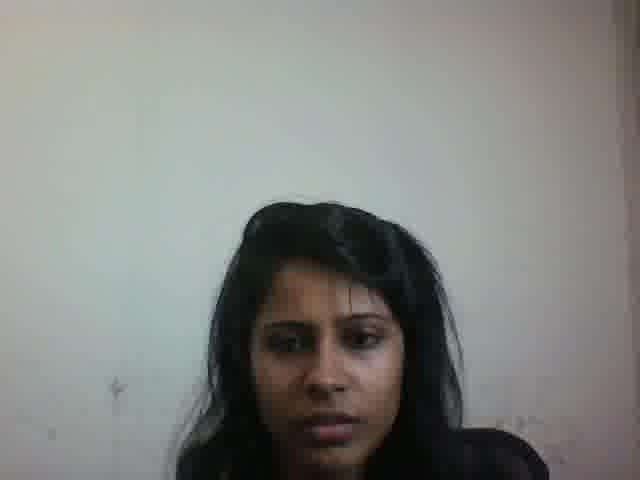bingung: (239, 261, 401, 471)
